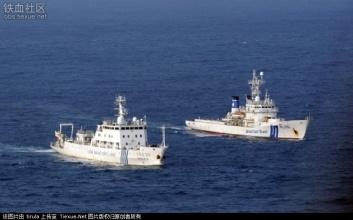warship: (186, 69, 312, 141), (50, 93, 170, 168)
